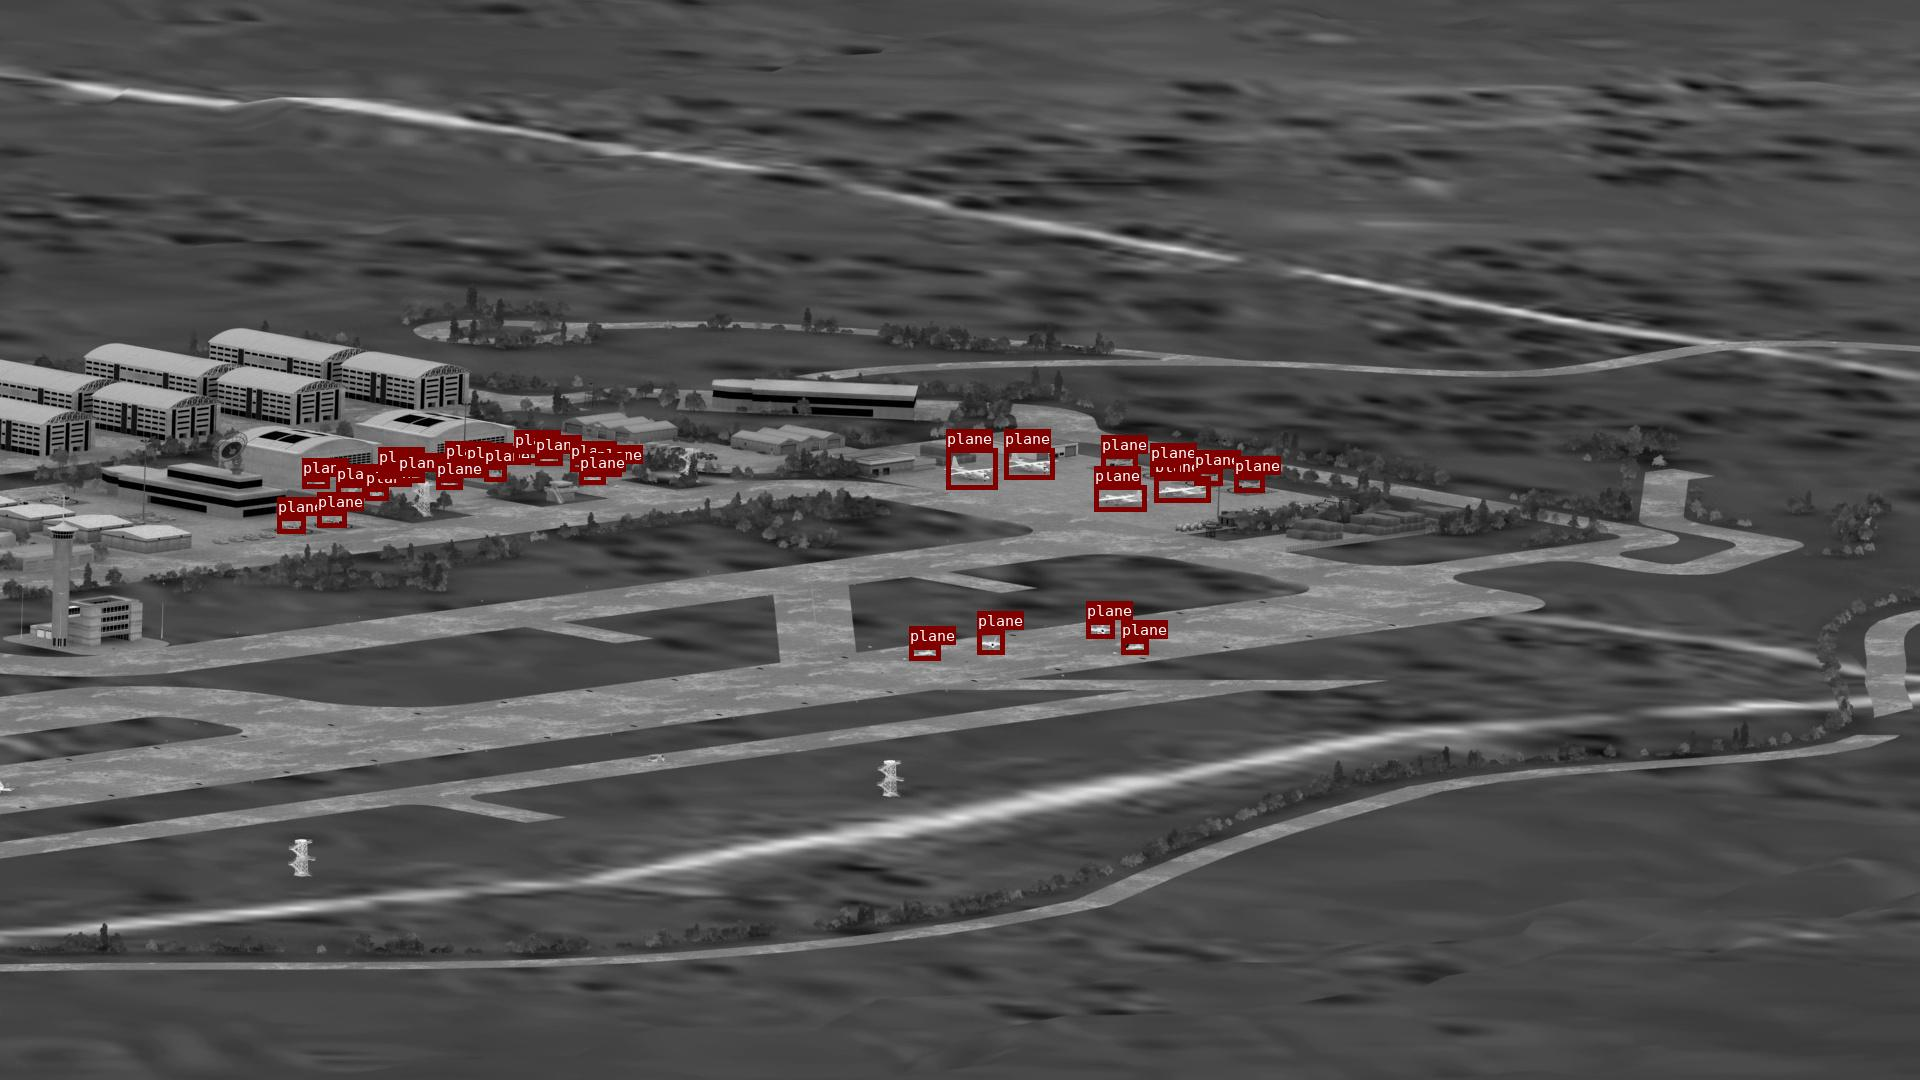plane: (945, 448, 997, 489), (1004, 448, 1054, 479), (1154, 476, 1211, 502), (1095, 485, 1146, 512), (977, 630, 1004, 654), (1101, 454, 1137, 471), (1234, 475, 1265, 492), (1087, 620, 1114, 638), (277, 516, 305, 533), (909, 645, 940, 659), (1193, 469, 1222, 485), (316, 512, 345, 527), (336, 483, 367, 497), (1150, 462, 1179, 476), (1121, 640, 1149, 654), (484, 465, 506, 481), (465, 462, 487, 477), (514, 448, 539, 462), (535, 454, 562, 465), (579, 472, 605, 484), (596, 464, 621, 476), (436, 477, 462, 489), (365, 487, 388, 500), (378, 465, 402, 477), (302, 477, 328, 488), (398, 472, 425, 483), (570, 460, 595, 471), (444, 460, 464, 472)
